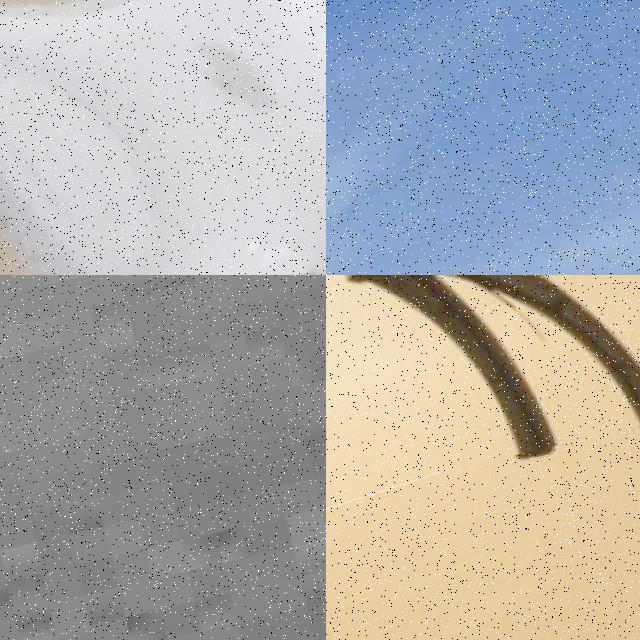drone: (0, 0, 326, 275), (326, 275, 640, 513), (326, 0, 640, 100)
